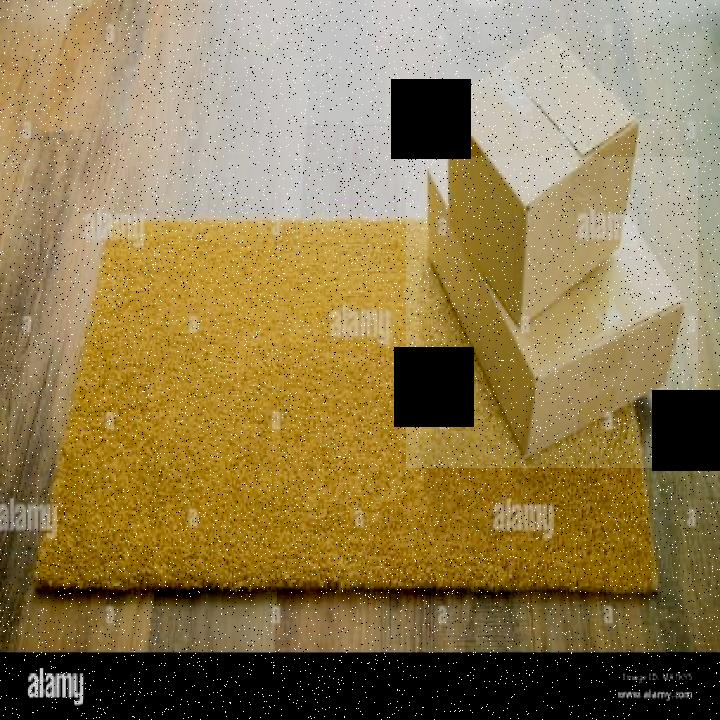box: (406, 157, 698, 468), (442, 22, 643, 332)
